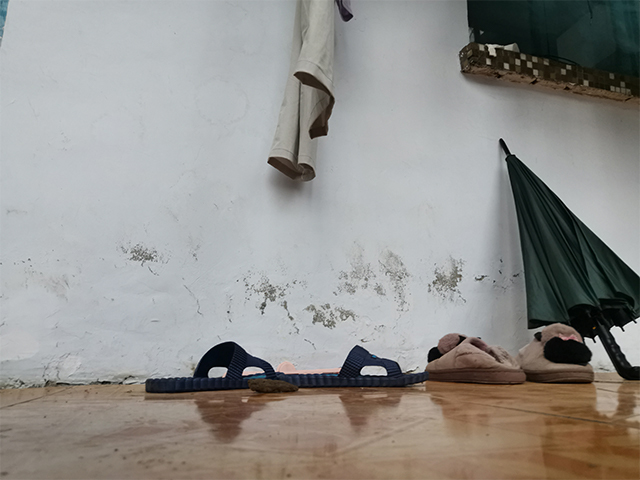feces: (247, 376, 300, 394)
slippers: (143, 340, 274, 395), (274, 340, 425, 385), (423, 333, 524, 386), (523, 324, 596, 384)
